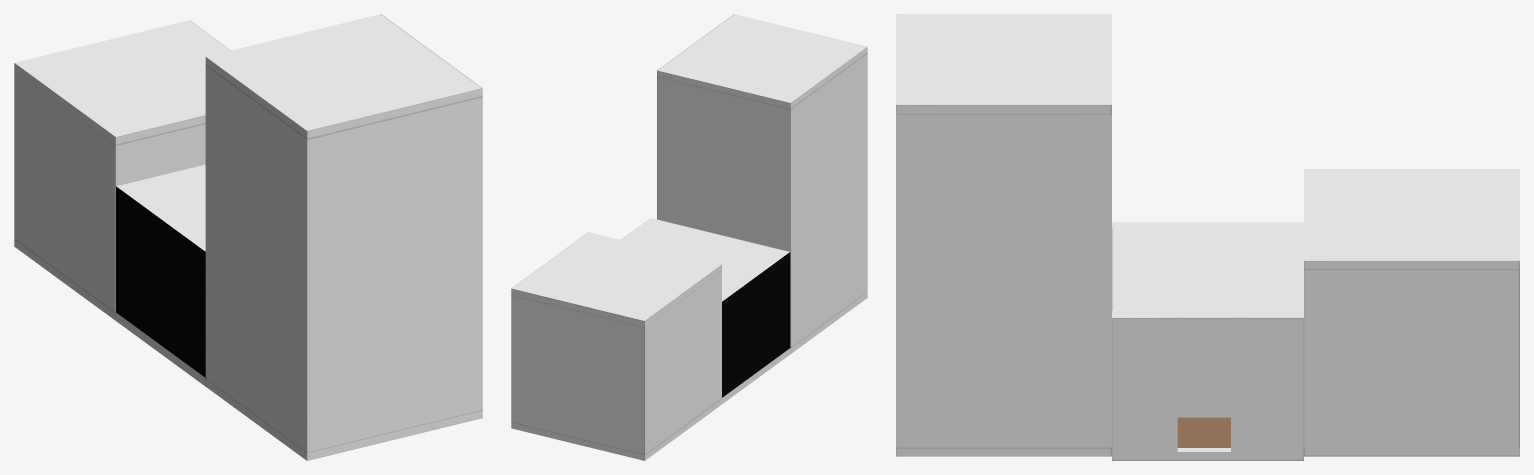
The model's file is room5.fbx.
The picture shows the model from 3 angles, left to right: view 1: azimuth 30°, elevation 25°; view 2: azimuth 150°, elevation 25°; view 3: azimuth 270°, elevation 25°; orthographic projection. The views are drawn at different scales.
Visible parts, largest first — view 1: Cube.003; view 2: Cube.003; view 3: Cube.003.
Boxes of the visible parts, x1=… form: Cube.003: x1=14, y1=14, x2=482, y2=460; Cube.003: x1=511, y1=14, x2=867, y2=460; Cube.003: x1=896, y1=14, x2=1519, y2=460.
Bounding box in the file's own units: 4658 × 7993 × 12860.
